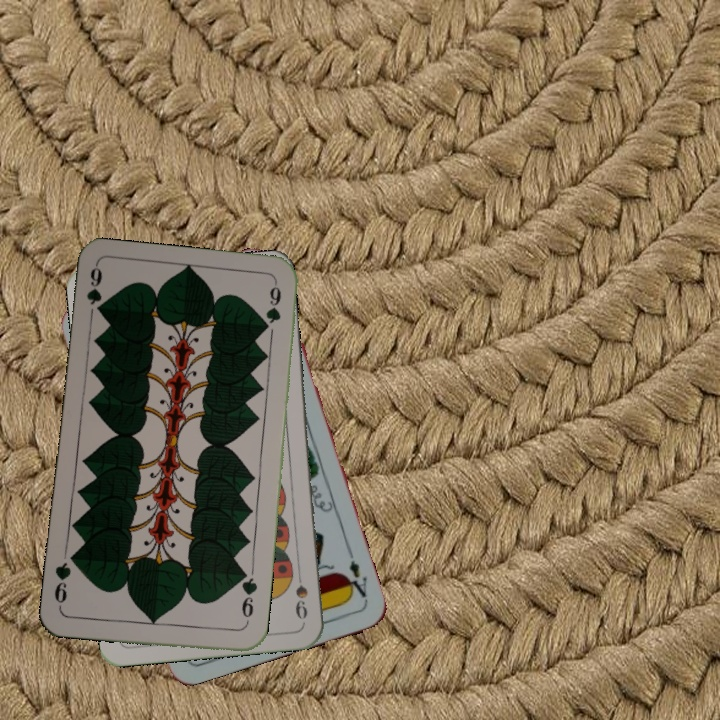EA: (340, 546, 370, 600)
G9: (237, 569, 260, 628), (82, 263, 105, 315)
S9: (291, 564, 310, 622)
